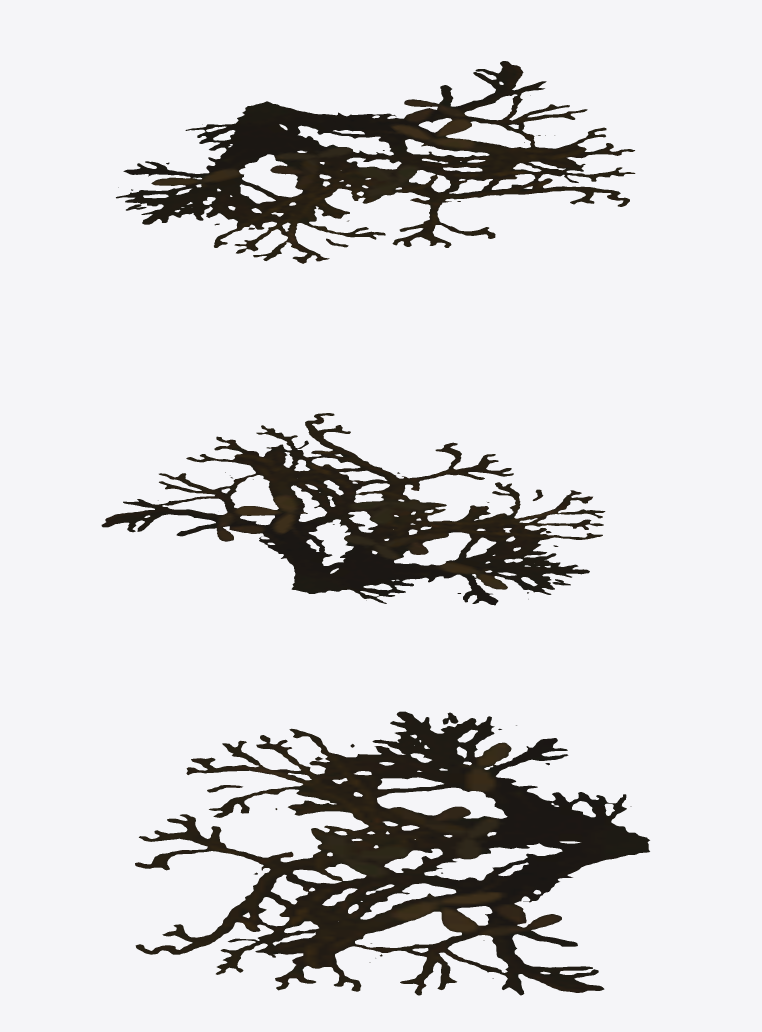
Rendered from hazz_grass_b_04.FBX.
3 renders of one model, top to bottom at view 1: azimuth 30°, elevation 25°; view 2: azimuth 150°, elevation 25°; view 3: azimuth 270°, elevation 25°, orthographic. The views are drawn at different scales.
Visible parts, largest first — view 1: hazz_grass_b_04; view 2: hazz_grass_b_04; view 3: hazz_grass_b_04.
Part boxes in pixels (x1,y1,x2,y2): hazz_grass_b_04: [116, 61, 635, 263]; hazz_grass_b_04: [101, 413, 605, 605]; hazz_grass_b_04: [135, 711, 649, 995].
Size of the model in its own units: 246 by 2.04 by 240.
